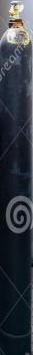cylinder: (0, 1, 33, 355)
